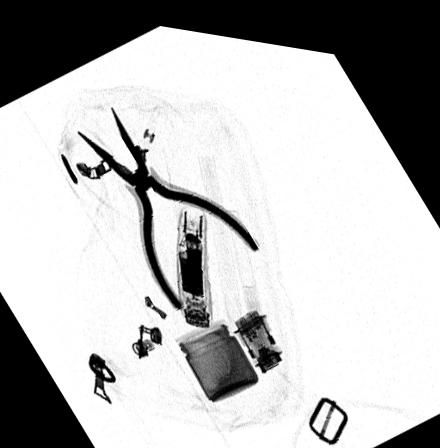Pliers: (75, 100, 261, 302)
